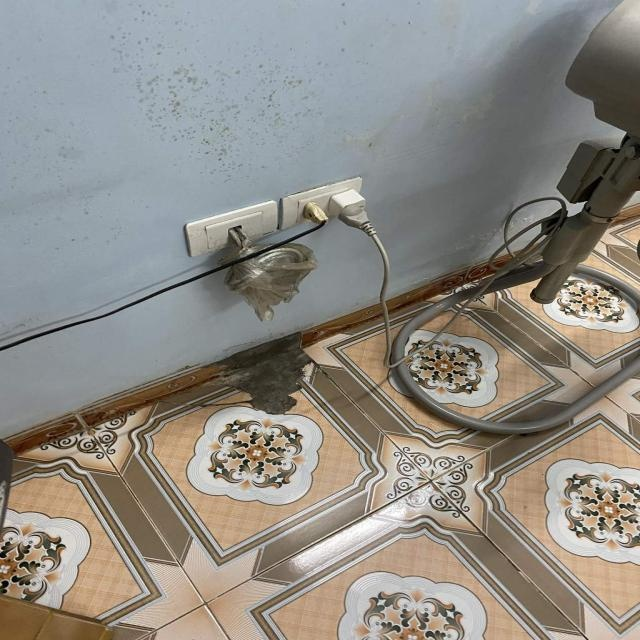outlet: (183, 200, 277, 257), (280, 176, 364, 231)
